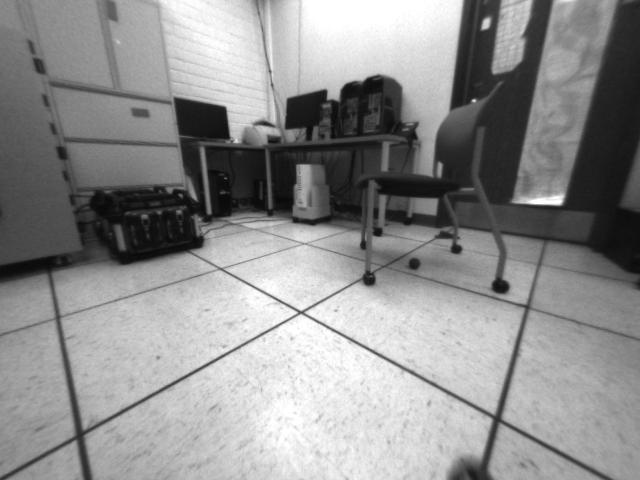dogtoy: (403, 253, 427, 272)
